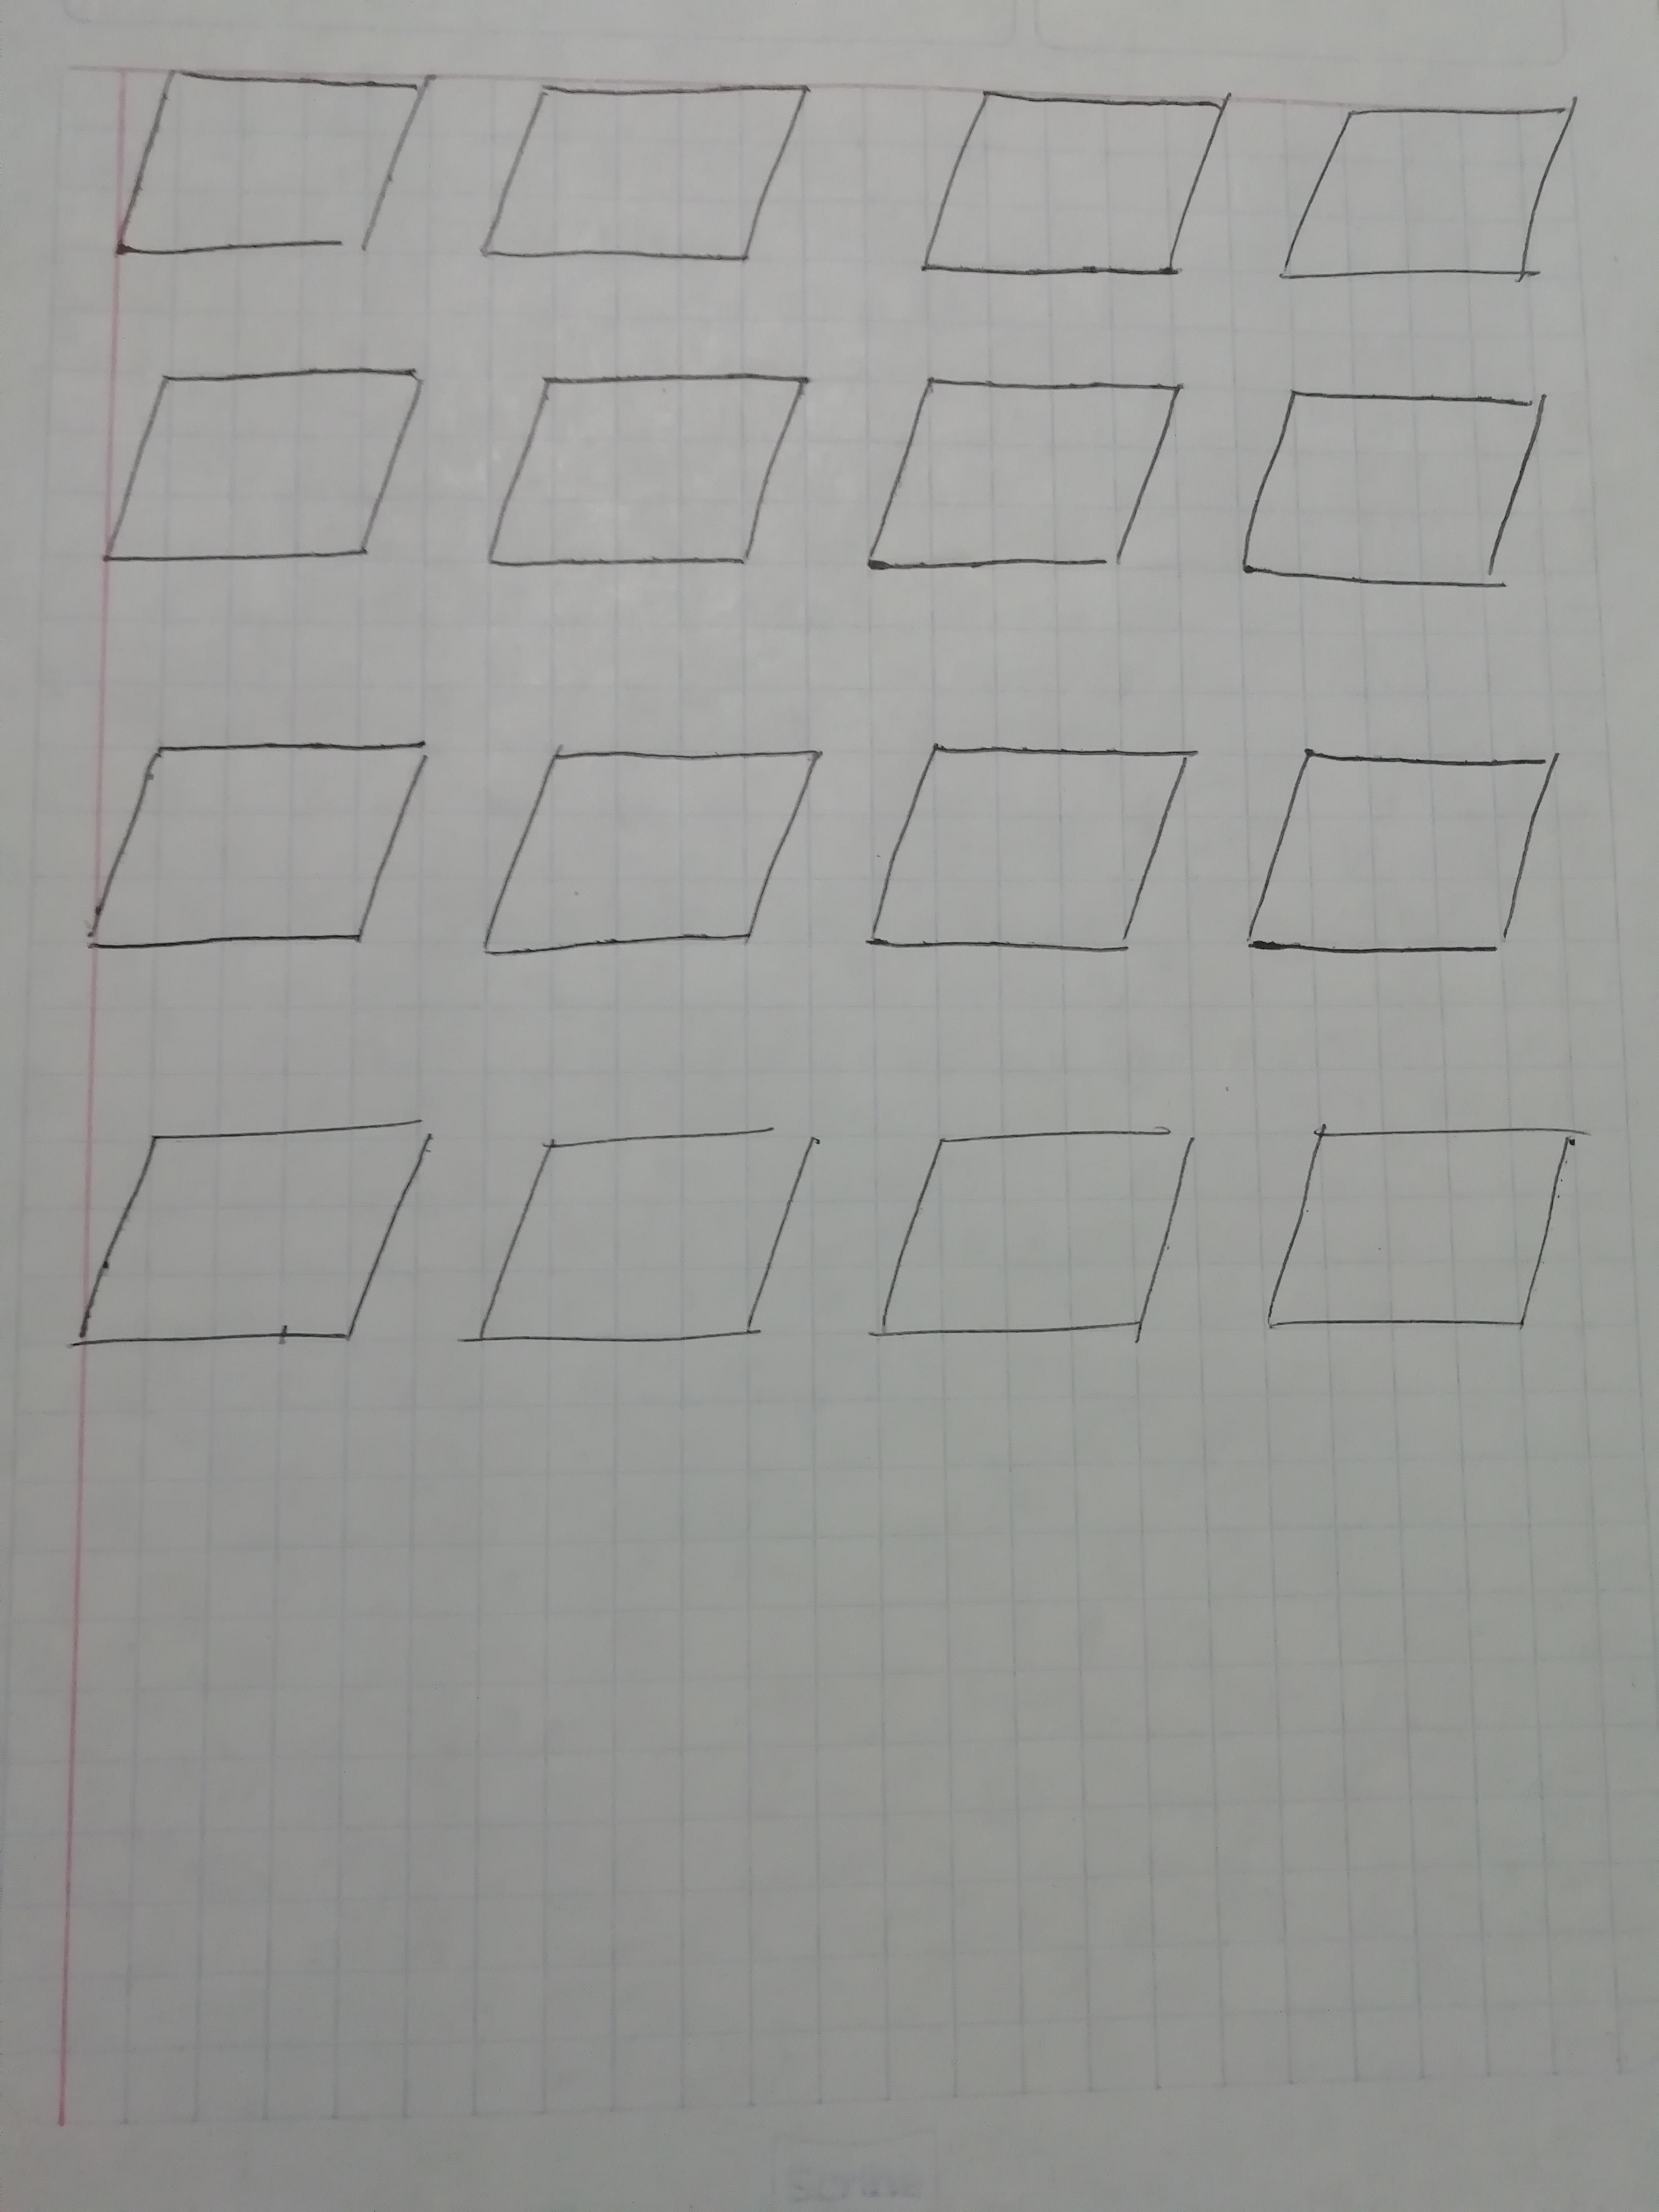scan: (26, 1085, 455, 1400), (465, 1085, 838, 1397), (856, 1085, 1209, 1404), (1232, 1103, 1612, 1374), (44, 723, 448, 970), (845, 719, 1209, 993), (54, 45, 451, 291), (40, 362, 455, 585), (474, 740, 842, 989), (1229, 362, 1589, 613), (1239, 733, 1575, 1000), (901, 59, 1253, 312), (458, 64, 831, 294), (469, 354, 821, 596), (852, 369, 1192, 610), (1263, 89, 1596, 305)
